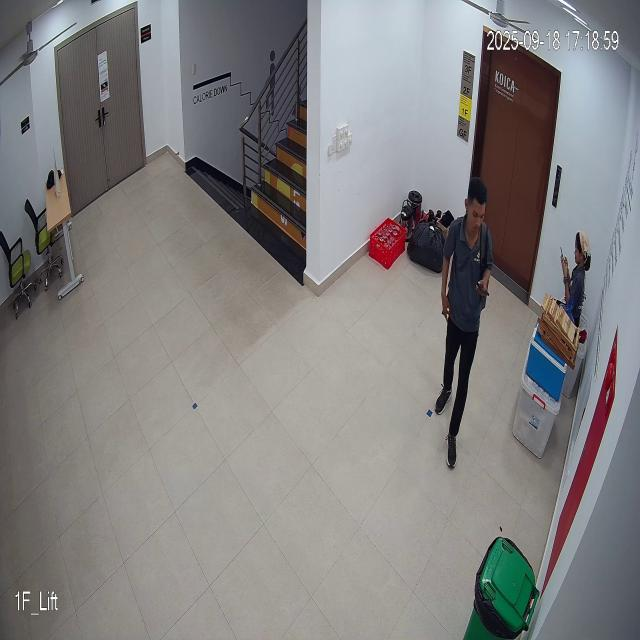face: (464, 173, 490, 244)
